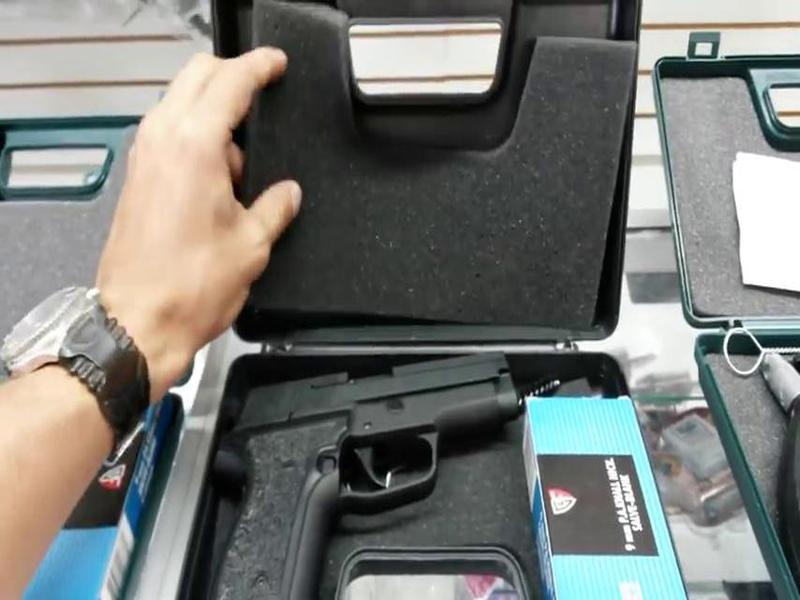Pistola: (231, 341, 527, 600)
